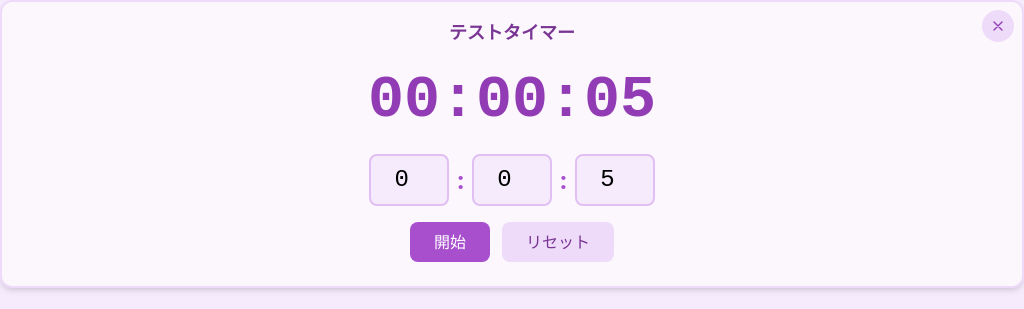
Scenario: TimerCard › 3.1 個別タイマーの表示と状態管理 › 動作中は一時停止ボタンが表示される
The image size is (1024, 309).
Click the button with test id "start-button" at (450, 242), box [410,222,490,262]
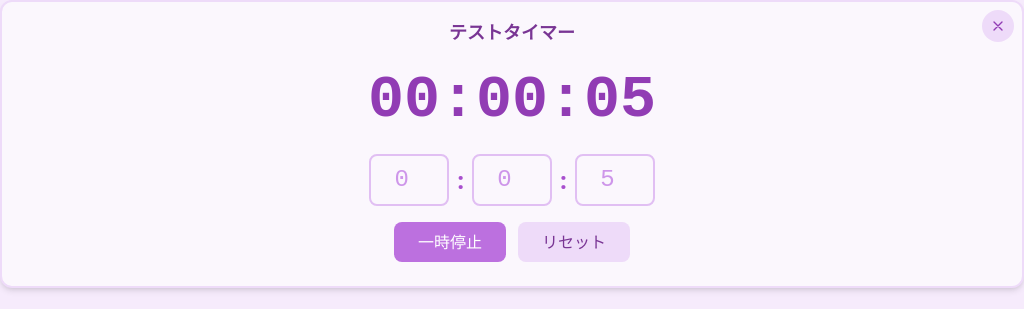
Expected: the button with test id "pause-button" is shown, [394,222,506,262]
